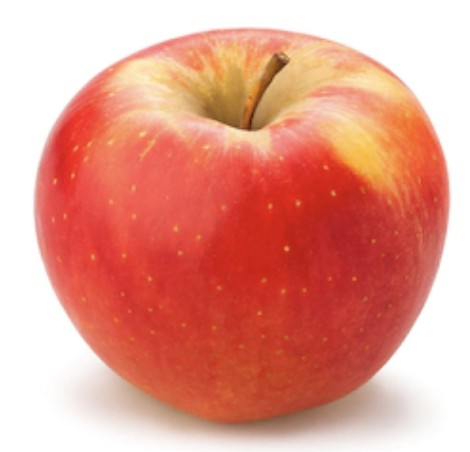fresh_apple: (36, 28, 450, 424)
